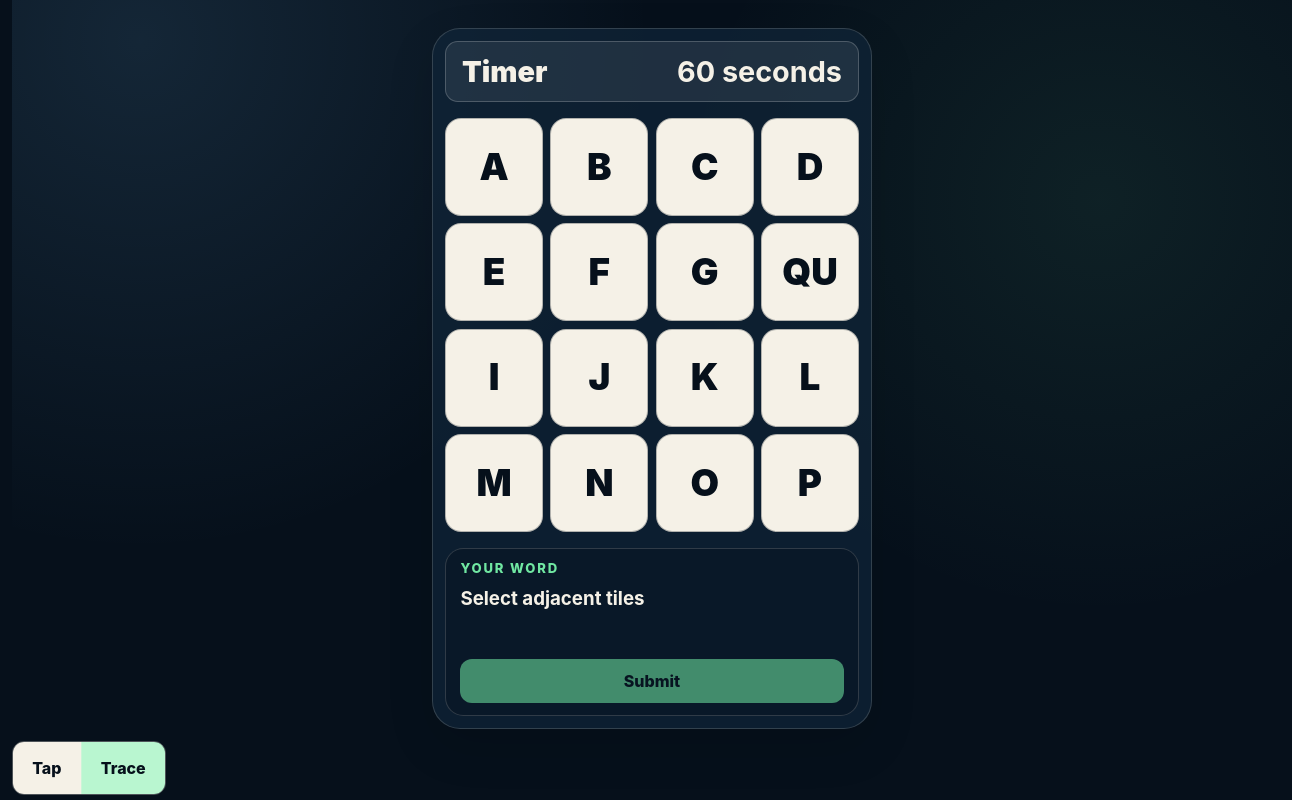
Test: RoomLobby word entry › submits once on Trace lift, ignores nonadjacent movement, and keeps keyboard Submit usable
Click the button "Trace".
click(123, 768)  # box [81,742,165,794]
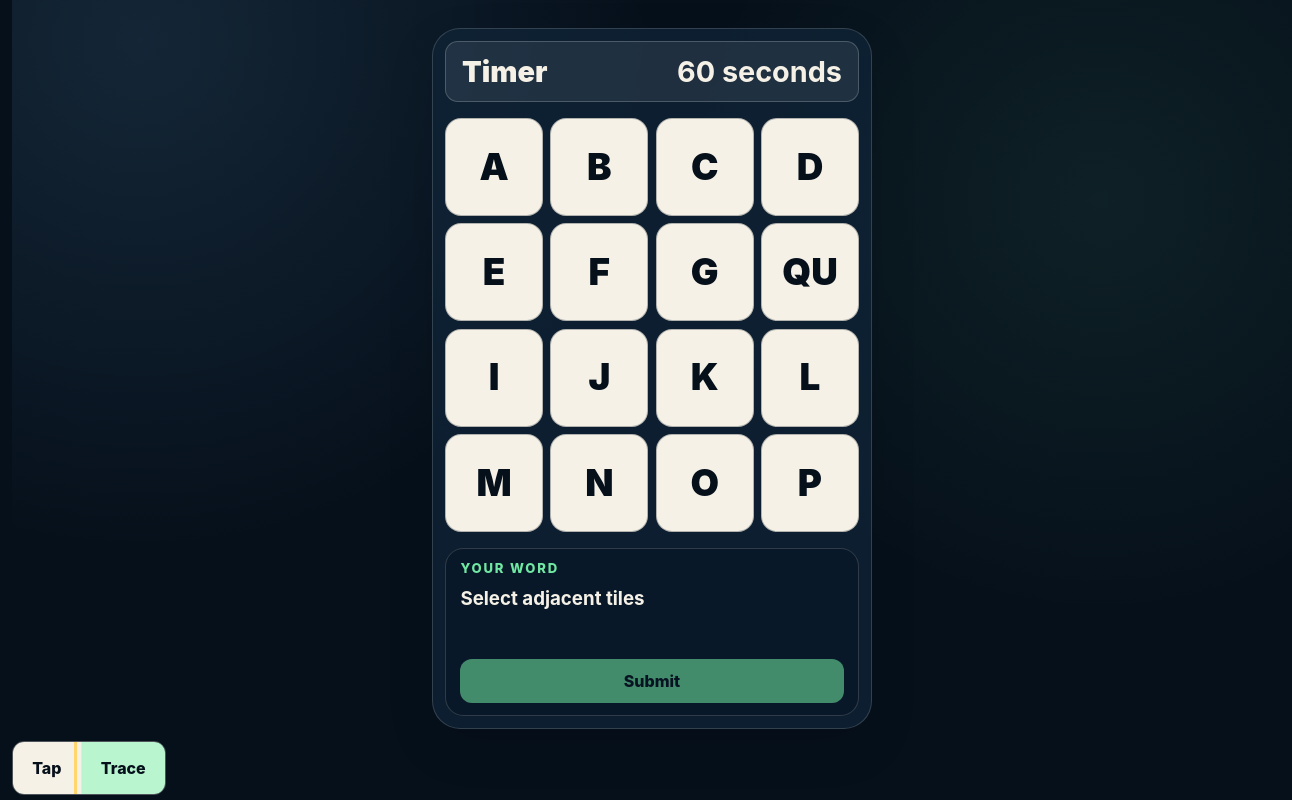
Press the mouse on the button "A" at (494, 167), box [445,118,543,216]
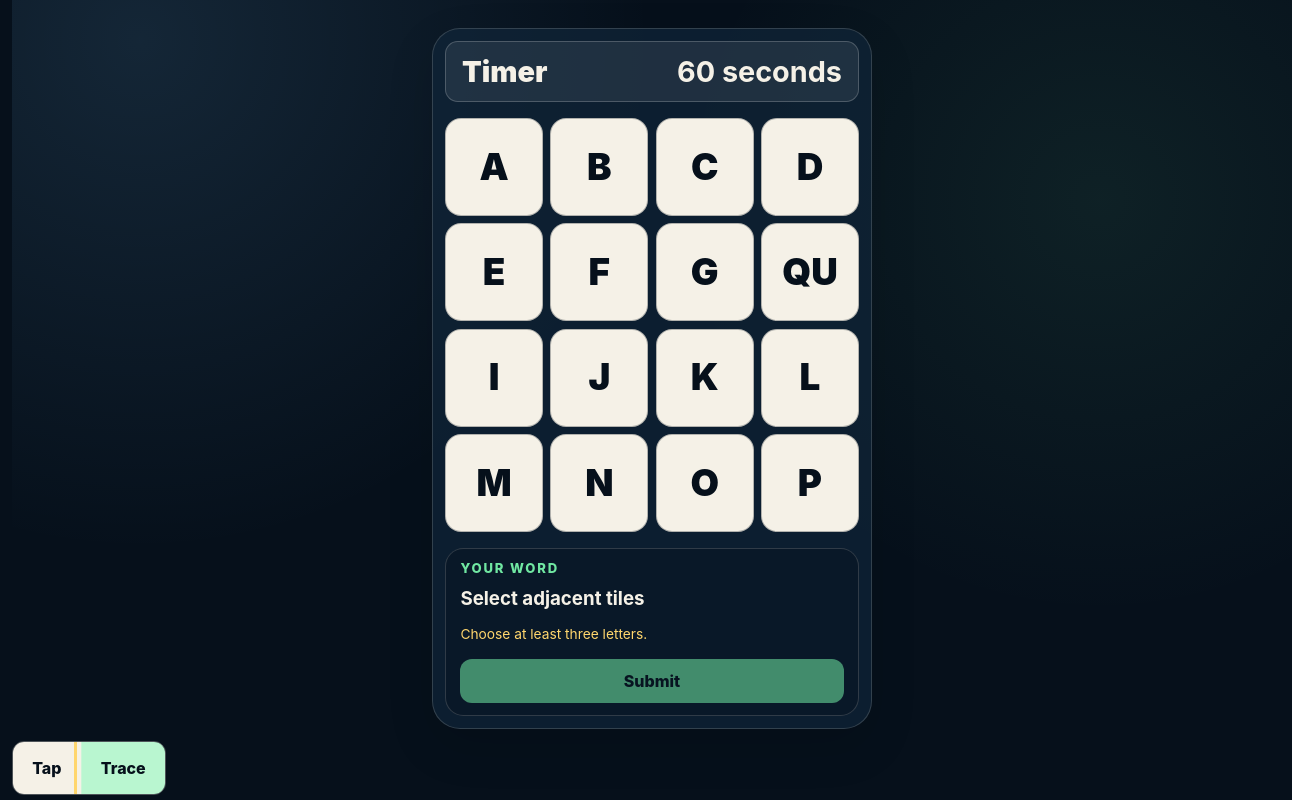
Expected: the button "Submit" is disabled, [460,659,844,703]
Now the text "Choose at least three letters." is shown, box [460,626,647,642]
